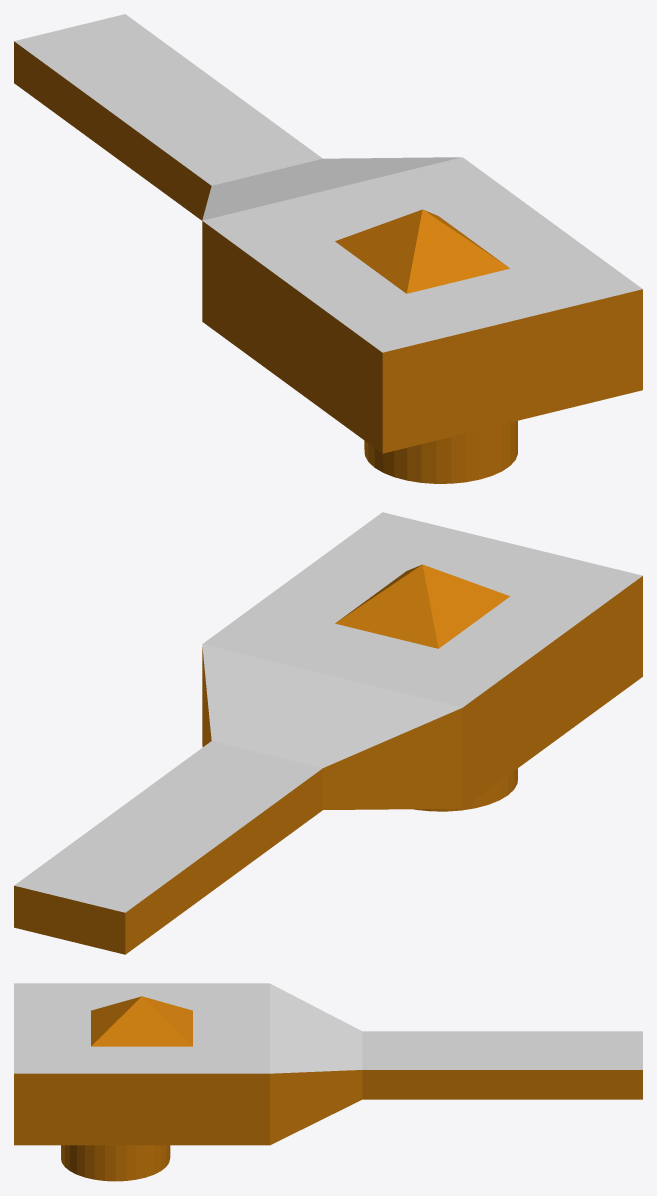
The model's file is FirstTankCannon.fbx.
3 renders of one model, top to bottom at view 1: azimuth 30°, elevation 25°; view 2: azimuth 150°, elevation 25°; view 3: azimuth 270°, elevation 25°, orthographic. The views are drawn at different scales.
Parts seen in each view (by area): view 1: First TankCannon; view 2: First TankCannon; view 3: First TankCannon.
Part boxes in pixels (x1=…): First TankCannon: x1=14, y1=14, x2=642, y2=483; First TankCannon: x1=14, y1=512, x2=642, y2=954; First TankCannon: x1=14, y1=983, x2=642, y2=1181.
Size of the model in its own units: 184 by 154 by 542.
